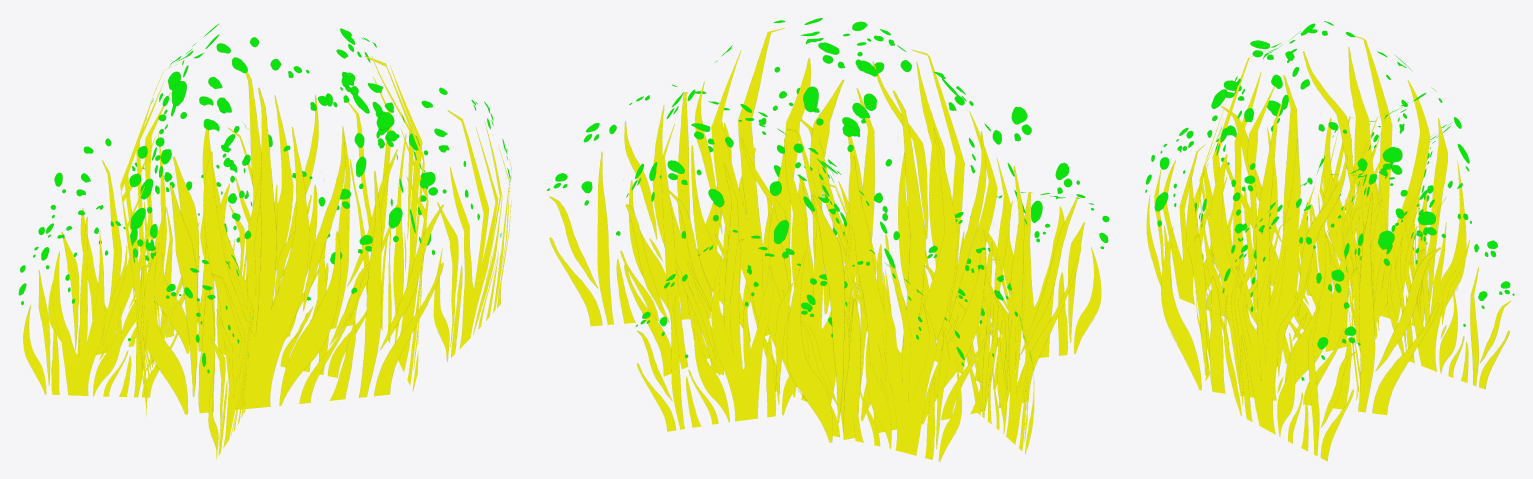
Rendered from grass.glb.
3 views of the same model, side by side, from view 1: azimuth 30°, elevation 25°; view 2: azimuth 150°, elevation 25°; view 3: azimuth 270°, elevation 25° (orthographic). The views are drawn at different scales.
Visible parts, largest first — view 1: Grass; view 2: Grass; view 3: Grass.
Part boxes in pixels (<box>): Grass: <box>18,23,511,458</box>; Grass: <box>547,18,1109,461</box>; Grass: <box>1145,21,1514,461</box>.
Bounding box in the file's own units: 1.62 × 1.07 × 1.17.
Materials: 1 (1 with a texture image).
